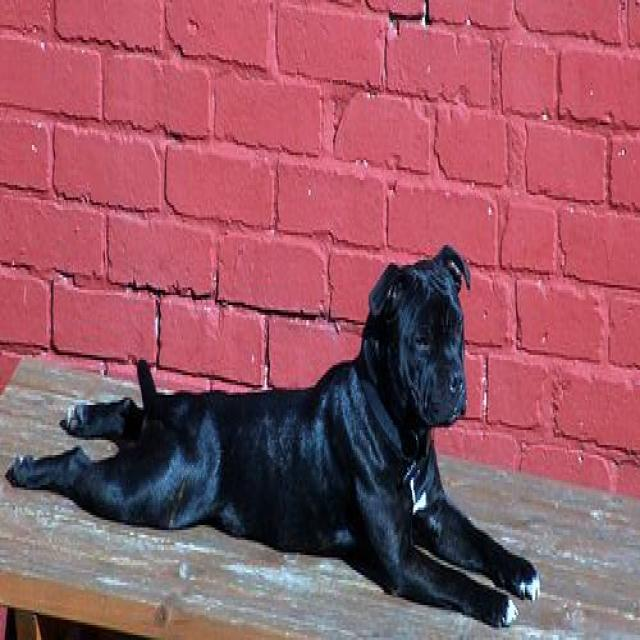staffordshire_bullterrier: (8, 242, 542, 630)
